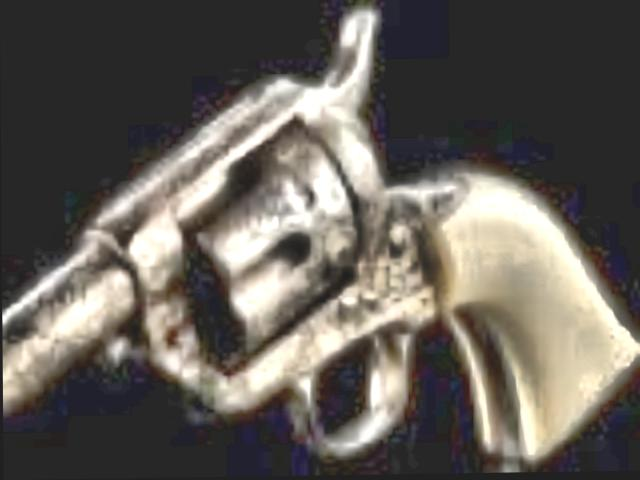pistol: (0, 1, 631, 456)
